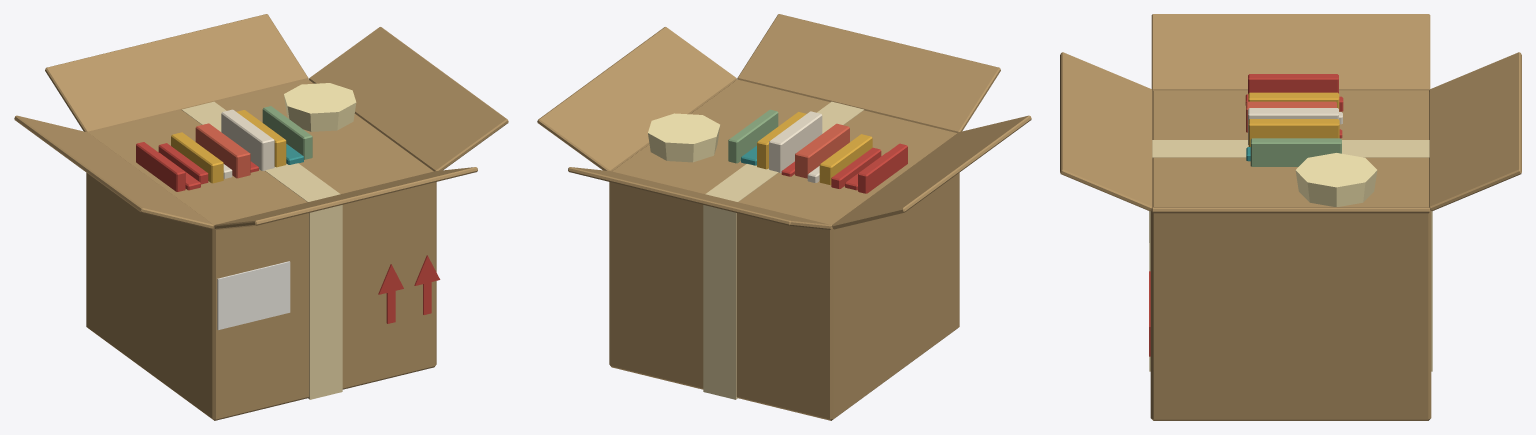
The model's file is moving_box.glb.
3 views of the same model, side by side, from view 1: azimuth 30°, elevation 25°; view 2: azimuth 150°, elevation 25°; view 3: azimuth 270°, elevation 25° (orthographic). The views are drawn at different scales.
Parts seen in each view (by area): view 1: moving_box_Body; view 2: moving_box_Body; view 3: moving_box_Body.
Part boxes in pixels (x1=…): moving_box_Body: x1=14, y1=14, x2=508, y2=420; moving_box_Body: x1=537, y1=14, x2=1031, y2=420; moving_box_Body: x1=1060, y1=14, x2=1521, y2=420.
Bounding box in the file's own units: 1 × 0.6 × 0.996.
